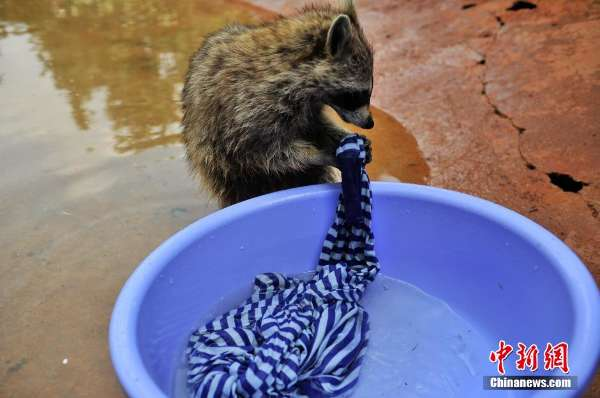raccoon: (176, 1, 385, 206)
